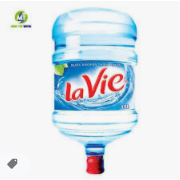Bottle: (51, 8, 141, 175)
